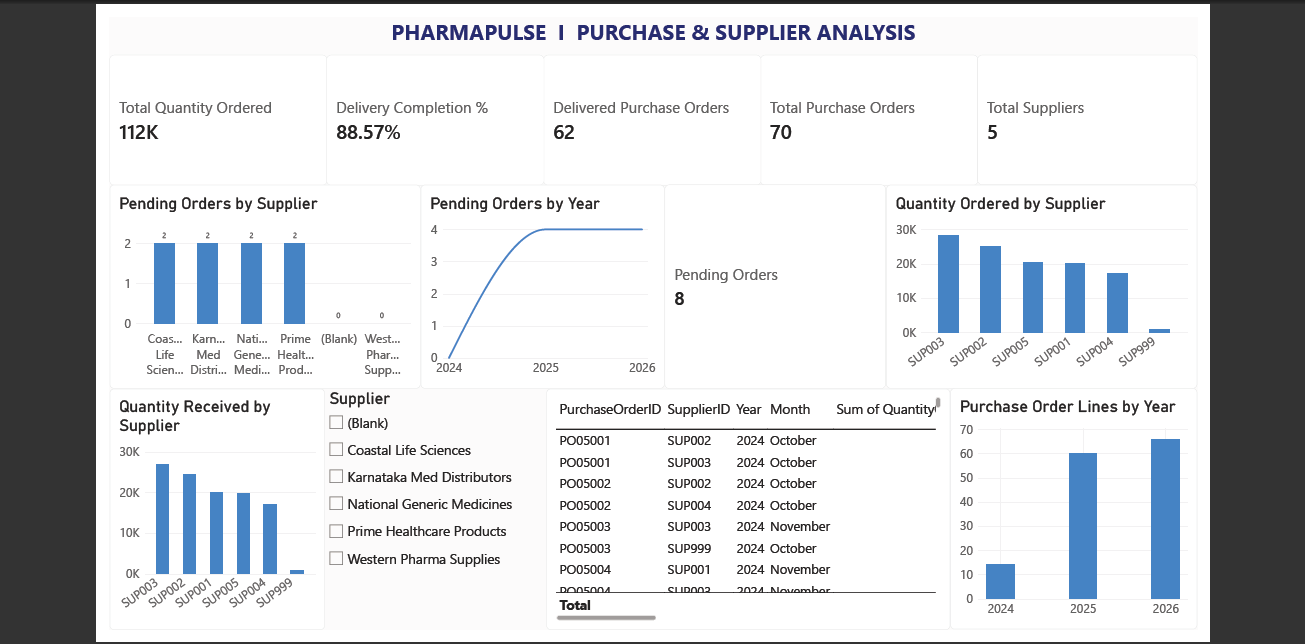

The dashboard page shown, as its layout file describes it:
{"tool":"powerbi","page":{"name":"Purchase & Supplier Analysis","canvas":[1920,1080],"ordinal":2},"visuals":[{"type":"cardVisual","fields":{"Data":["Count(PurchasedOrder_Cleaned.PurchaseOrderID)"]},"box":[1149,65.5,384,230],"z":0},{"type":"cardVisual","fields":{"Data":["Sum(PurchasedOrder_Cleaned.QuantityOrdered)"]},"box":[0,65.5,384,230],"z":1000},{"type":"clusteredColumnChart","title":"Quantity Ordered by Supplier","fields":{"Category":["PurchasedOrder_Cleaned.SupplierID"],"Y":["Sum(PurchasedOrder_Cleaned.QuantityOrdered)"]},"box":[1370.7,294.8,549.3,360.3],"z":2000},{"type":"clusteredColumnChart","title":"Quantity Received by Supplier","fields":{"Category":["PurchasedOrder_Cleaned.SupplierID"],"Y":["Sum(PurchasedOrder_Cleaned.QuantityReceived)"]},"box":[0,655.1,380.5,425.8],"z":3000},{"type":"clusteredColumnChart","title":"Purchase Order Lines by Year","fields":{"Category":["PurchasedOrder_Cleaned.OrderDate.Variation.Date Hierarchy.Year","PurchasedOrder_Cleaned.OrderDate.Variation.Date Hierarchy.Quarter","PurchasedOrder_Cleaned.OrderDate.Variation.Date Hierarchy.Month","PurchasedOrder_Cleaned.OrderDate.Variation.Date Hierarchy.Day"],"Y":["Count(PurchasedOrder_Cleaned.PurchaseOrderLineID)"]},"box":[1484.1,654.2,435.9,425.8],"z":4000},{"type":"tableEx","fields":{"Values":["PurchasedOrder_Cleaned.PurchaseOrderID","PurchasedOrder_Cleaned.SupplierID","PurchasedOrder_Cleaned.OrderDate.Variation.Date Hierarchy.Year","PurchasedOrder_Cleaned.OrderDate.Variation.Date Hierarchy.Month","Sum(PurchasedOrder_Cleaned.QuantityOrdered)","Sum(PurchasedOrder_Cleaned.QuantityReceived)","PurchasedOrder_Cleaned.ExpectedDeliveryDate.Variation.Date Hierarchy.Year","PurchasedOrder_Cleaned.ExpectedDeliveryDate.Variation.Date Hierarchy.Quarter","PurchasedOrder_Cleaned.ExpectedDeliveryDate.Variation.Date Hierarchy.Month","PurchasedOrder_Cleaned.ExpectedDeliveryDate.Variation.Date Hierarchy.Day","PurchasedOrder_Cleaned.ActualDeliveryDate.Variation.Date Hierarchy.Year","PurchasedOrder_Cleaned.ActualDeliveryDate.Variation.Date Hierarchy.Quarter"]},"box":[771,655.1,713.1,425.8],"z":5000},{"type":"cardVisual","fields":{"Data":["PurchasedOrder_Cleaned.Delivered Purchase Orders"]},"box":[766,65.5,384,230],"z":6000},{"type":"cardVisual","fields":{"Data":["PurchasedOrder_Cleaned.Pending Purchase Orders"]},"box":[979.7,294.8,390.6,360.3],"z":7000},{"type":"cardVisual","fields":{"Data":["PurchasedOrder_Cleaned.Delivery Completion %"]},"box":[383,65.5,384,230],"z":8000},{"type":"clusteredColumnChart","title":"Pending Orders by Supplier","fields":{"Category":["Suppliers_Cleaned.SupplierName"],"Y":["PurchasedOrder_Cleaned.Pending Purchase Orders"]},"box":[0,294.8,549.3,360],"z":9000},{"type":"lineChart","title":"Pending Orders by Year","fields":{"Category":["PurchasedOrder_Cleaned.OrderDate.Variation.Date Hierarchy.Year","PurchasedOrder_Cleaned.OrderDate.Variation.Date Hierarchy.Month"],"Y":["PurchasedOrder_Cleaned.Pending Purchase Orders"]},"box":[549.1,294.8,430.9,360],"z":10000},{"type":"slicer","fields":{"Values":["Suppliers_Cleaned.SupplierName"]},"box":[380.5,655.1,383,425.8],"z":11000},{"type":"textbox","box":[0,0,1920,65.5],"z":12000},{"type":"cardVisual","fields":{"Data":["Calendar_Cleaned.Total Suppliers"]},"box":[1532,65.5,388,229.3],"z":13000}]}

Visuals, with their boxes on the page's 1920x1080 design canvas (x1, y1, x2, y2). These are canvas units, not pixel positions in the 1305x644 screenshot, which may show the page scaled, cropped or inside an application window:
cardVisual - Count(PurchasedOrder_Cleaned.PurchaseOrderID): <box>1149,66,1533,296</box>
cardVisual - Sum(PurchasedOrder_Cleaned.QuantityOrdered): <box>0,66,384,296</box>
"Quantity Ordered by Supplier" clusteredColumnChart: <box>1371,295,1920,655</box>
"Quantity Received by Supplier" clusteredColumnChart: <box>0,655,380,1081</box>
"Purchase Order Lines by Year" clusteredColumnChart: <box>1484,654,1920,1080</box>
tableEx - PurchasedOrder_Cleaned.PurchaseOrderID x PurchasedOrder_Cleaned.SupplierID: <box>771,655,1484,1081</box>
cardVisual - PurchasedOrder_Cleaned.Delivered Purchase Orders: <box>766,66,1150,296</box>
cardVisual - PurchasedOrder_Cleaned.Pending Purchase Orders: <box>980,295,1370,655</box>
cardVisual - PurchasedOrder_Cleaned.Delivery Completion %: <box>383,66,767,296</box>
"Pending Orders by Supplier" clusteredColumnChart: <box>0,295,549,655</box>
"Pending Orders by Year" lineChart: <box>549,295,980,655</box>
slicer - Suppliers_Cleaned.SupplierName: <box>380,655,764,1081</box>
textbox: <box>0,0,1920,66</box>
cardVisual - Calendar_Cleaned.Total Suppliers: <box>1532,66,1920,295</box>
